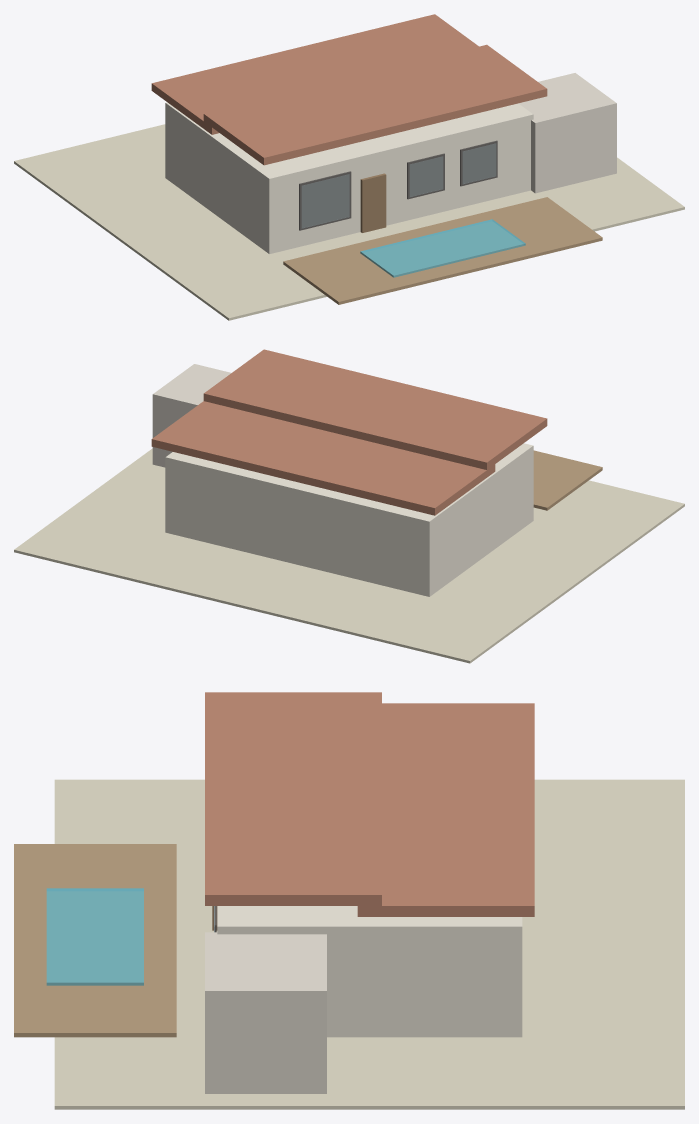
The model's file is bahia.glb.
The picture shows the model from 3 angles, top to bottom: view 1: azimuth 30°, elevation 25°; view 2: azimuth 150°, elevation 25°; view 3: azimuth 270°, elevation 25°; orthographic projection. The views are drawn at different scales.
Parts seen in each view (by area): view 1: Roof, Ground, Walls, Deck, Wing, Frames, Pool, Windows, Door; view 2: Ground, Roof, Walls, Wing, Deck; view 3: Ground, Roof, Walls, Deck, Wing, Pool.
Boxes of the visible parts, x1,y1,x2,y2 form: Roof: (151, 14, 547, 165); Ground: (14, 124, 684, 320); Walls: (165, 102, 533, 254); Deck: (283, 197, 602, 304); Wing: (519, 73, 616, 193); Frames: (299, 140, 497, 230); Pool: (360, 219, 525, 277); Windows: (302, 143, 496, 228); Door: (360, 173, 386, 232); Ground: (14, 448, 684, 663); Roof: (151, 349, 547, 515); Walls: (165, 443, 533, 596); Wing: (152, 364, 231, 467); Deck: (533, 450, 602, 510); Ground: (54, 779, 684, 1109); Roof: (205, 692, 534, 916); Walls: (217, 906, 522, 1037); Deck: (14, 844, 176, 1037); Wing: (205, 932, 326, 1093); Pool: (46, 888, 143, 985).
Size of the model in its own units: 19 by 4.25 by 16.5.
